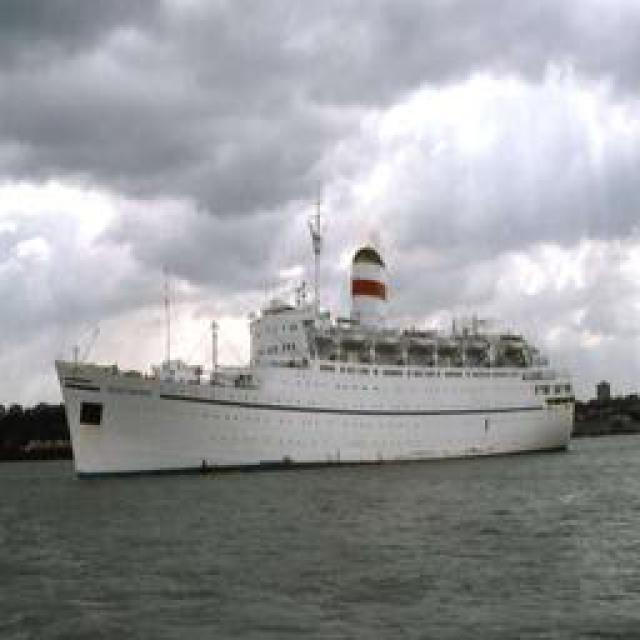Ship: (61, 286, 574, 476)
